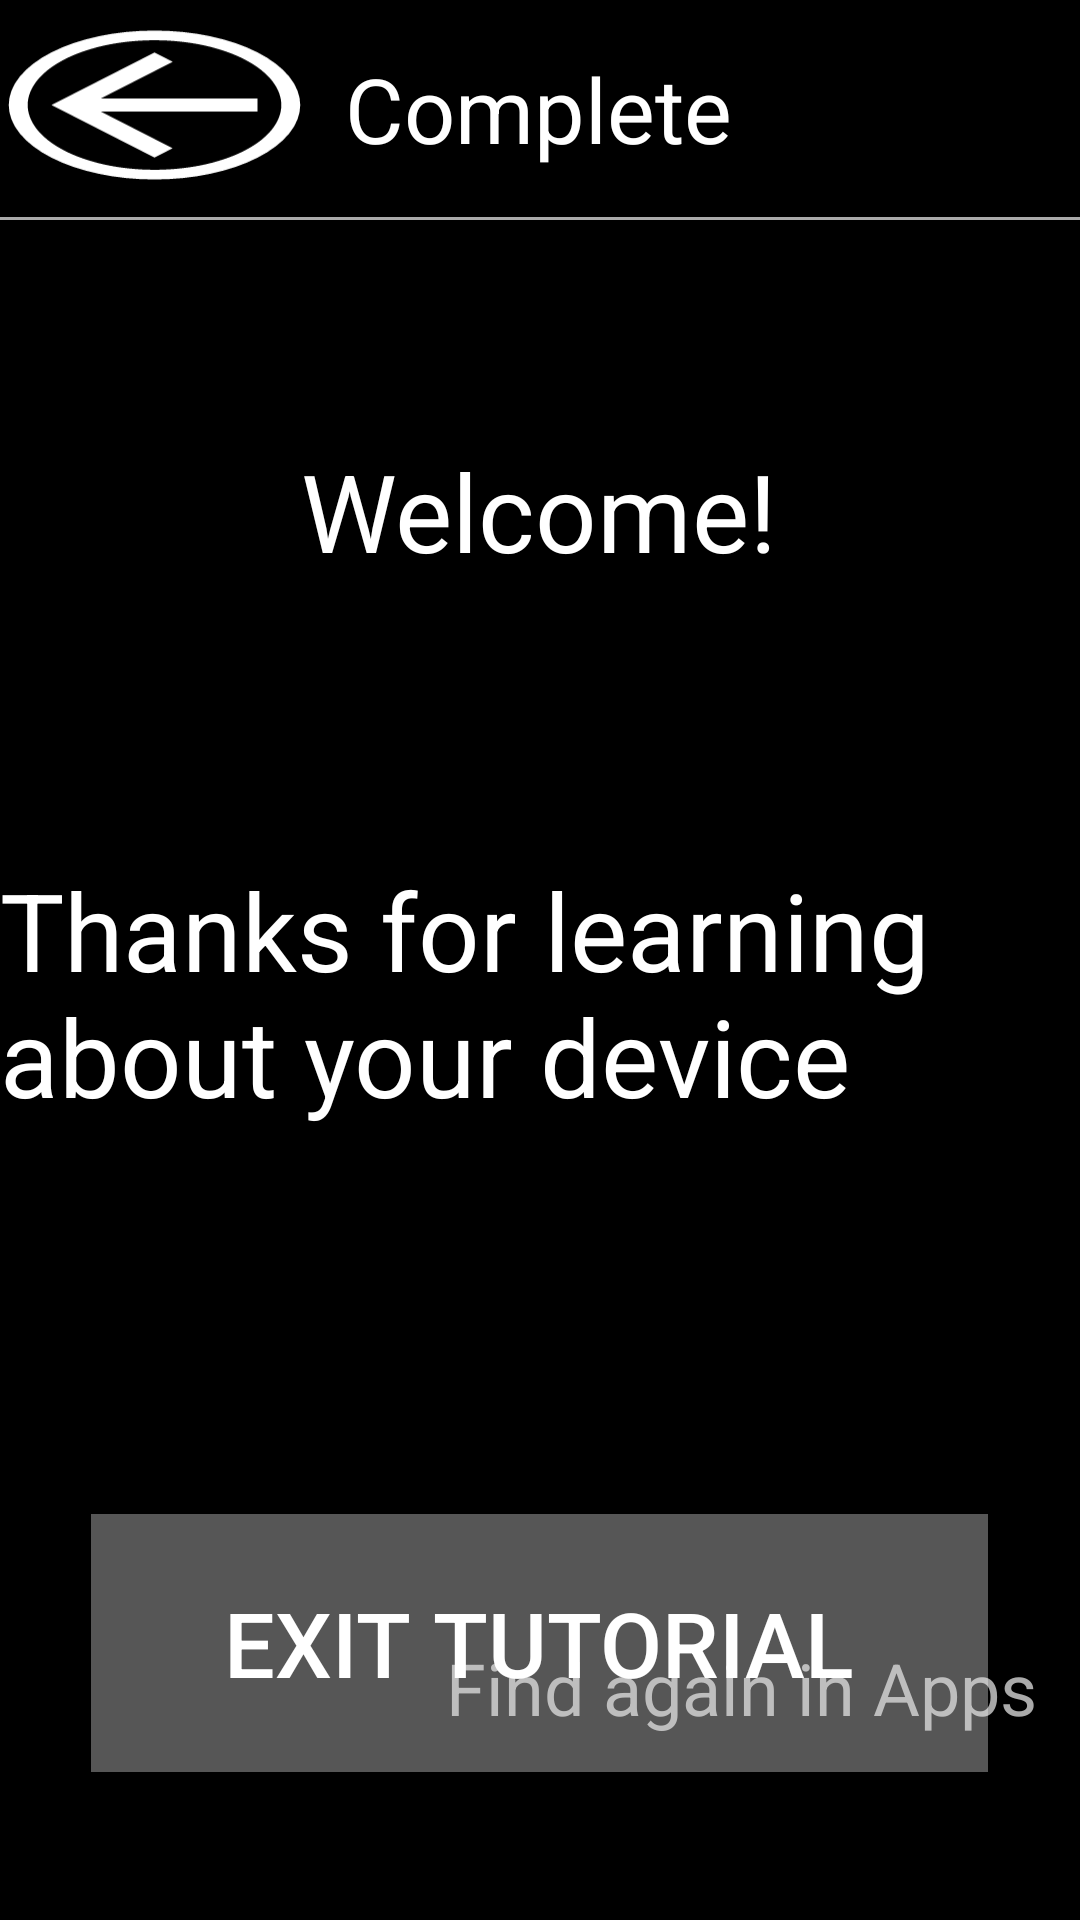

Icon click points for this 1080px×1920px phone screenshot, format (x,y):
back button image: (154,105)
